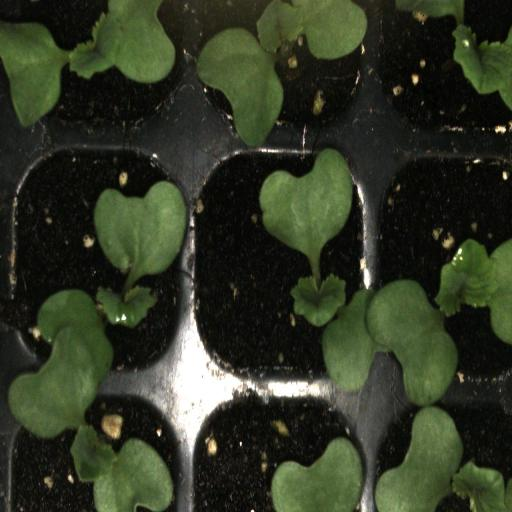seedling: (5, 139, 190, 393), (190, 140, 374, 394), (375, 143, 512, 393), (6, 0, 192, 139), (193, 0, 377, 136), (4, 386, 190, 512)
